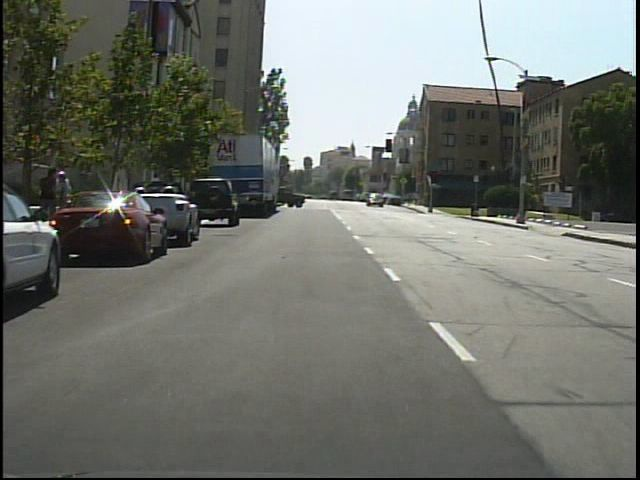person: (37, 163, 67, 237), (53, 170, 80, 225)
